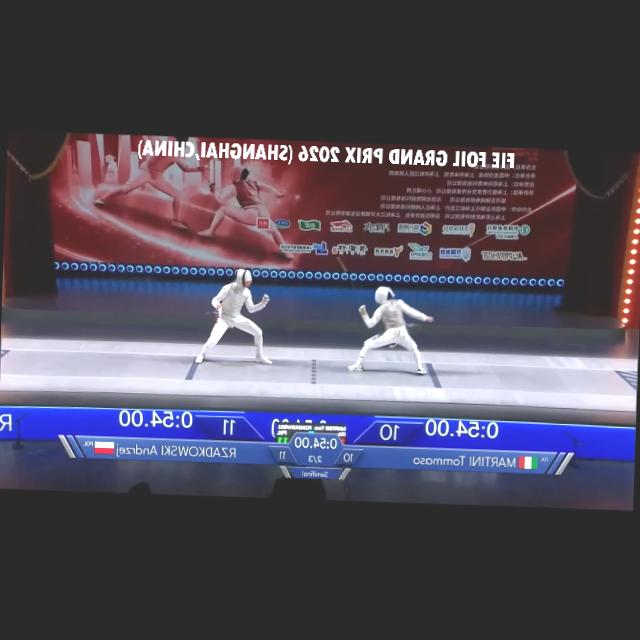blade: (333, 252, 372, 316), (260, 247, 304, 302)
